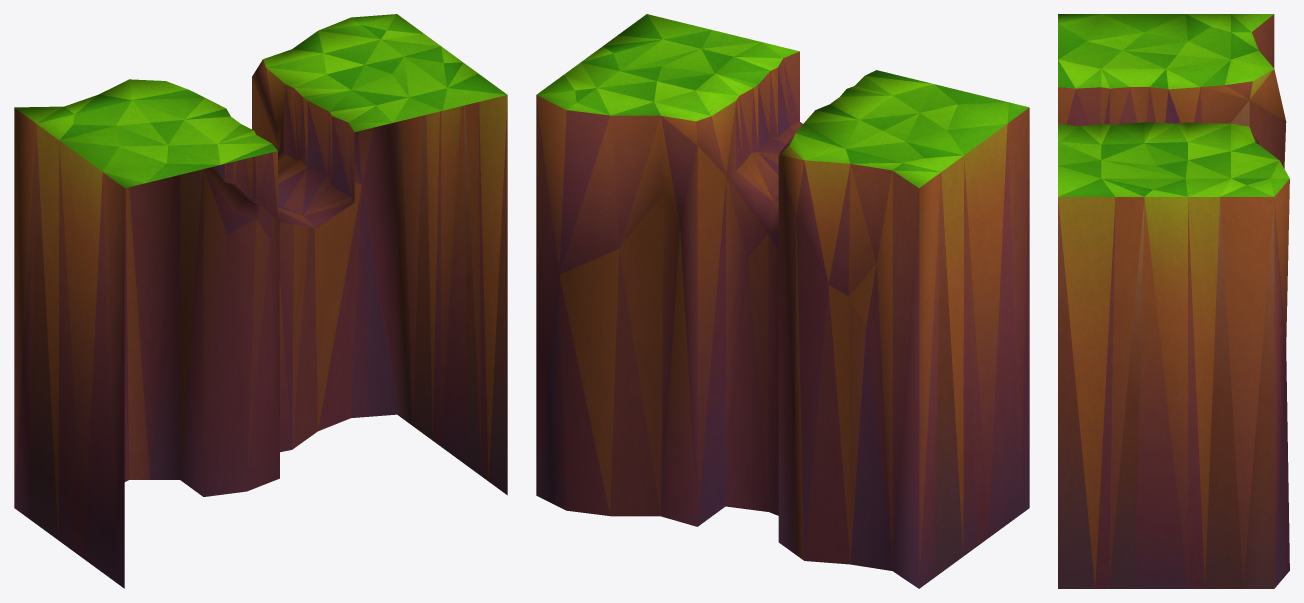
The model's file is Terrain-part-08.fbx.
3 renders of one model, left to right at view 1: azimuth 30°, elevation 25°; view 2: azimuth 150°, elevation 25°; view 3: azimuth 270°, elevation 25°, orthographic. The views are drawn at different scales.
Parts seen in each view (by area): view 1: Terrain-part-08; view 2: Terrain-part-08; view 3: Terrain-part-08.
Boxes of the visible parts, x1,y1,x2,y2 form: Terrain-part-08: [14, 14, 507, 588]; Terrain-part-08: [536, 14, 1029, 588]; Terrain-part-08: [1058, 14, 1289, 588].
Bounding box in the file's own units: 6 × 6 × 3.22.
